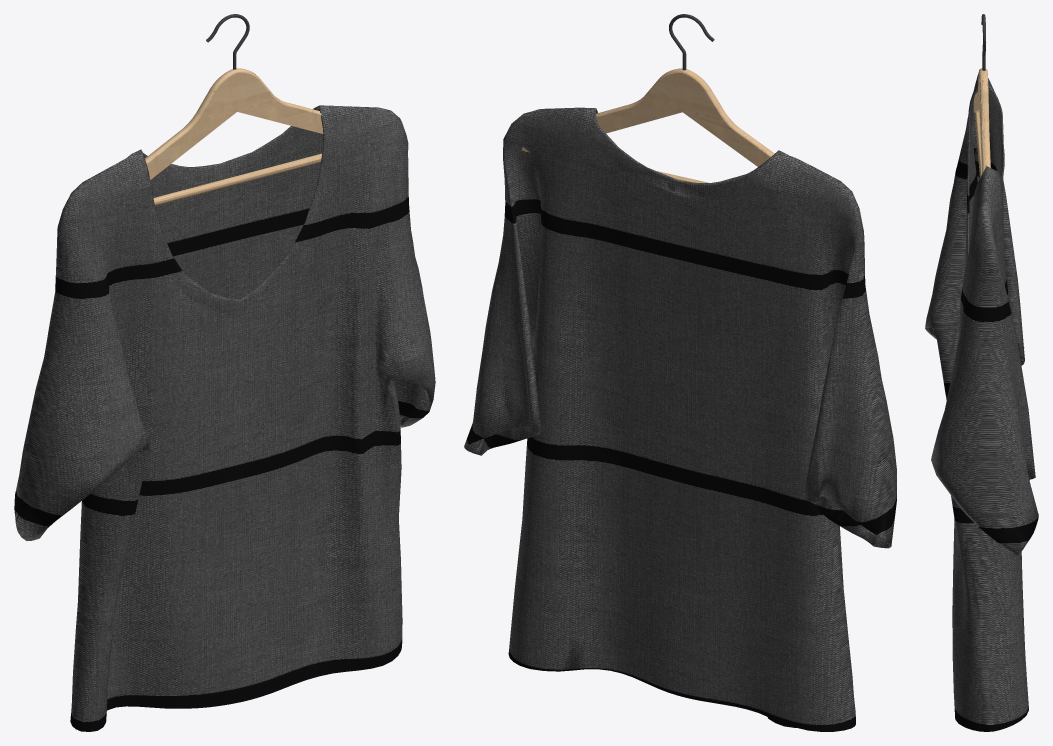
File: shirt 7.FBX
3 renders of one model, left to right at view 1: azimuth 30°, elevation 25°; view 2: azimuth 150°, elevation 25°; view 3: azimuth 270°, elevation 25°, orthographic. The views are drawn at different scales.
Parts seen in each view (by area): view 1: Shirt 7, hanger; view 2: Shirt 7, hanger; view 3: Shirt 7, hanger.
Part boxes in pixels (box(x1,y1,x2,y2)): Shirt 7: box(14, 105, 435, 731); hanger: box(145, 14, 323, 205); Shirt 7: box(464, 107, 896, 731); hanger: box(521, 14, 774, 182); Shirt 7: box(925, 73, 1038, 731); hanger: box(973, 14, 990, 177).
Bounding box in the file's own units: 20.69 × 5.22 × 32.59.
